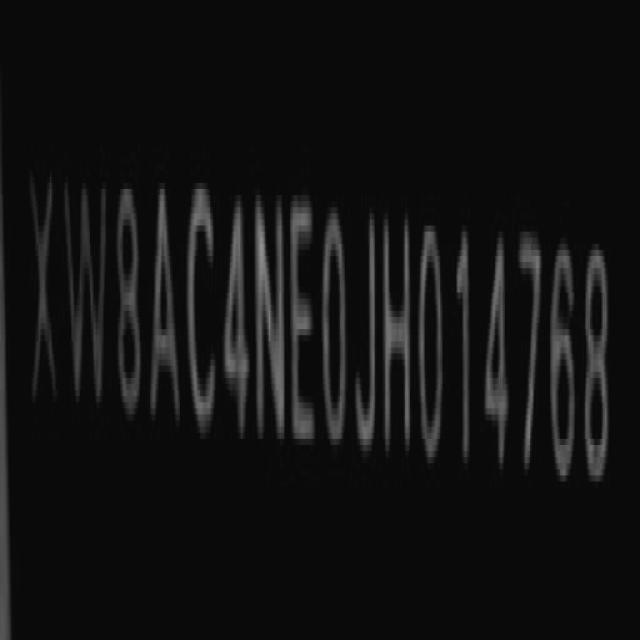0: (318, 194, 350, 449), (419, 217, 446, 471)
1: (456, 219, 473, 477)
4: (222, 187, 250, 451), (482, 226, 510, 484)
6: (549, 236, 576, 491)
7: (519, 223, 544, 490)
8: (586, 238, 613, 490), (118, 178, 143, 426)
A: (147, 176, 180, 439)
C: (189, 181, 220, 443)
E: (289, 188, 314, 461)
H: (386, 206, 414, 467)
J: (354, 198, 380, 461)
N: (256, 185, 288, 457)
W: (65, 171, 111, 420)
X: (28, 164, 57, 425)
